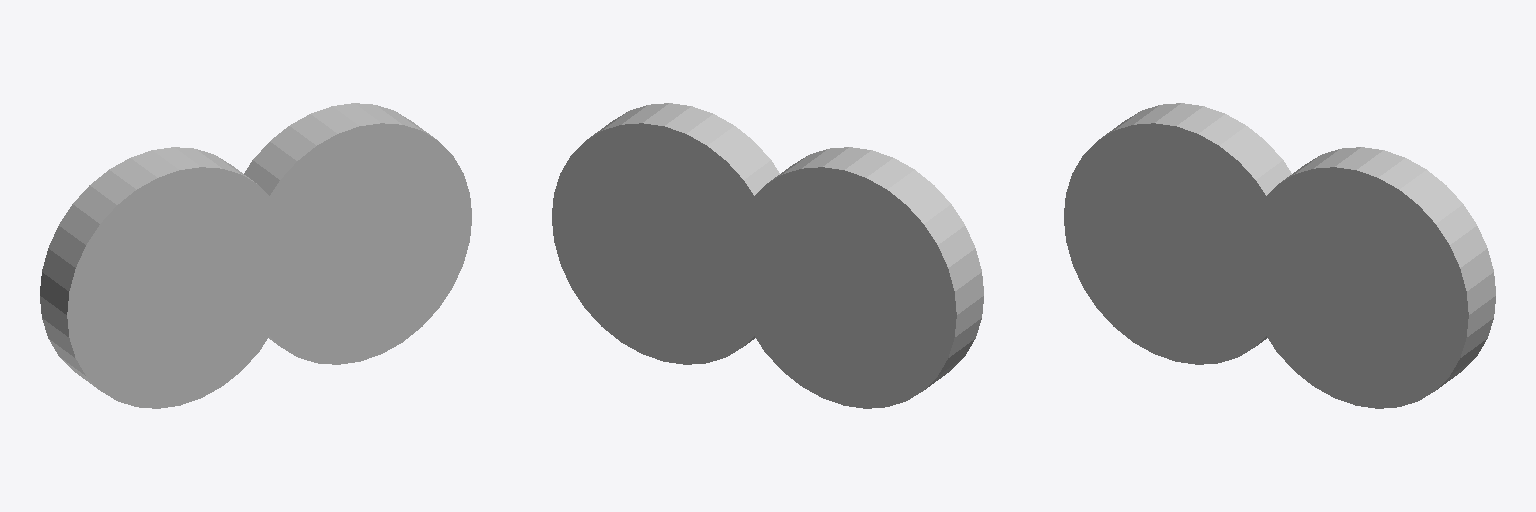
The model's file is cyl_cyl.obj.
3 renders of one model, left to right at view 1: azimuth 30°, elevation 25°; view 2: azimuth 150°, elevation 25°; view 3: azimuth 330°, elevation 25°, orthographic.
Parts seen in each view (by area): view 1: Cylinder.001_Cylinder.002; view 2: Cylinder.001_Cylinder.002; view 3: Cylinder.001_Cylinder.002.
Part boxes in pixels (x1,y1,x2,y2): Cylinder.001_Cylinder.002: (40,103,471,408); Cylinder.001_Cylinder.002: (552,103,983,408); Cylinder.001_Cylinder.002: (1064,103,1495,408).
Size of the model in its own units: 3.6 by 2 by 0.4231.